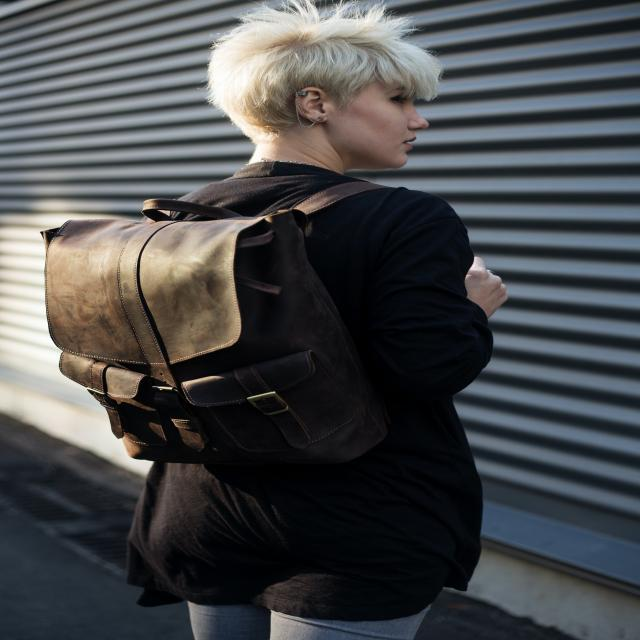backpack: (42, 180, 420, 458)
